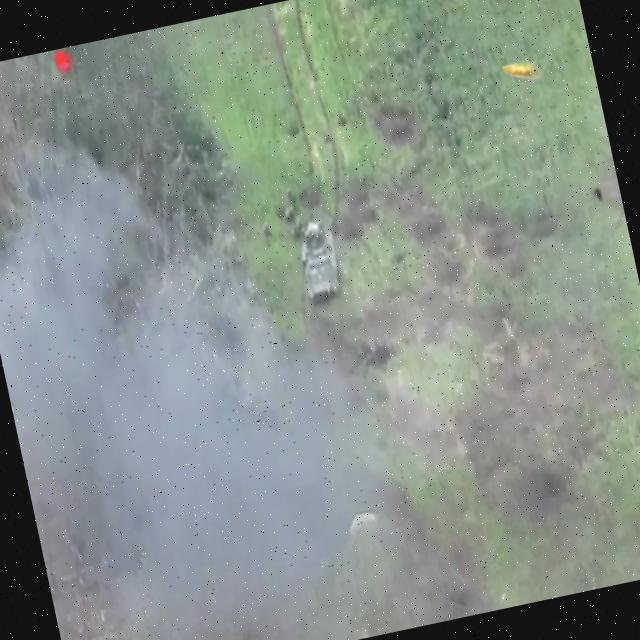APC: (292, 214, 350, 308)
